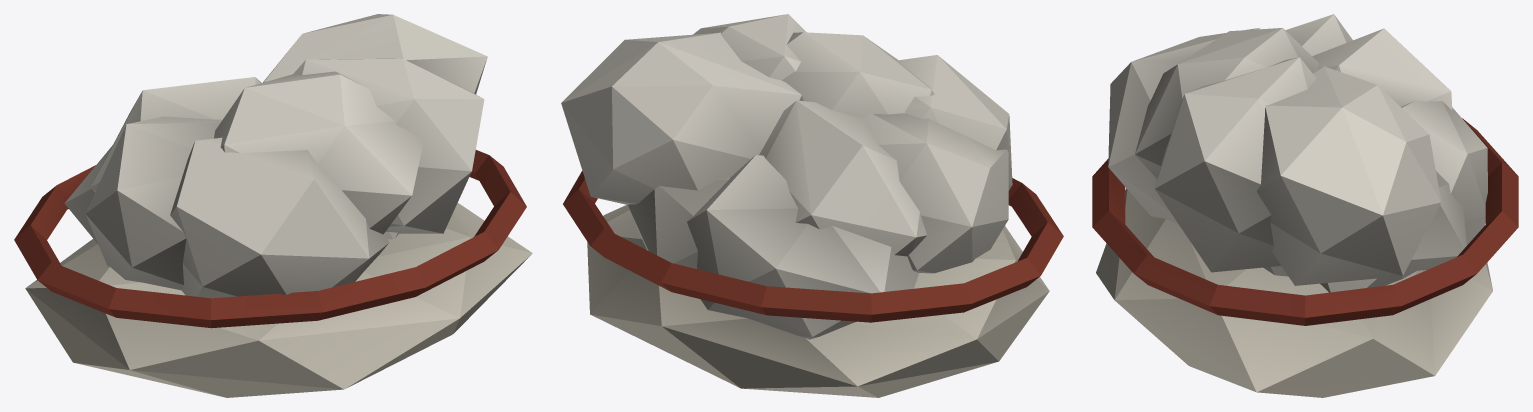
3 renders of one model, left to right at view 1: azimuth 30°, elevation 25°; view 2: azimuth 150°, elevation 25°; view 3: azimuth 270°, elevation 25°, orthographic. The views are drawn at different scales.
Visible parts, largest first — view 1: base; view 2: base; view 3: base.
Part boxes in pixels (bbox=[...]): base: bbox=[14, 14, 532, 397]; base: bbox=[561, 14, 1063, 397]; base: bbox=[1092, 14, 1518, 397].
Bounding box in the file's own units: 0.4956 × 0.2976 × 0.3805.
